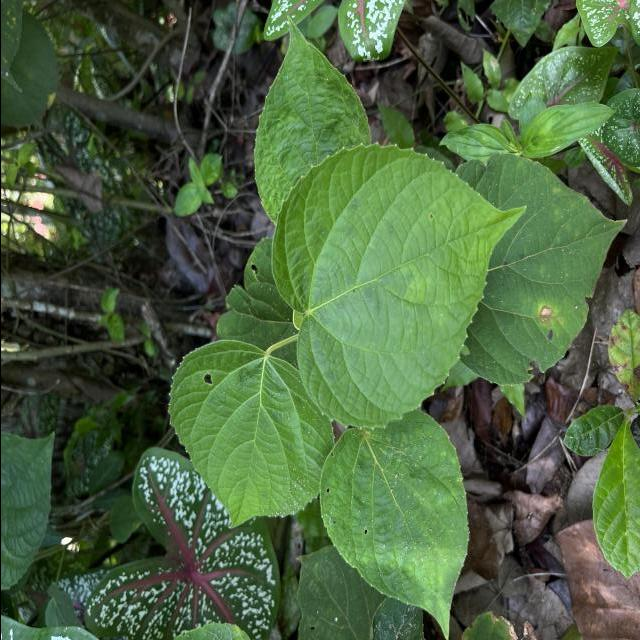Clerodendrum infortunatum: (270, 140, 528, 431), (456, 150, 628, 387), (317, 408, 470, 640), (165, 338, 335, 530), (250, 12, 372, 226)
